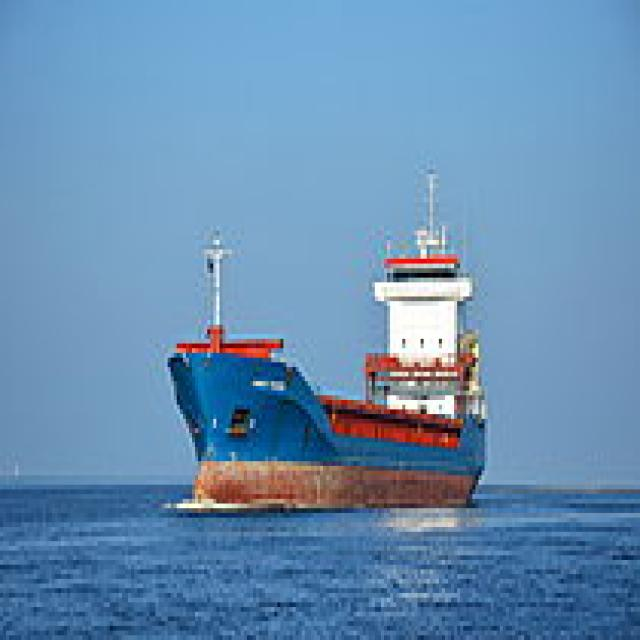Cargo: (162, 156, 488, 504)
